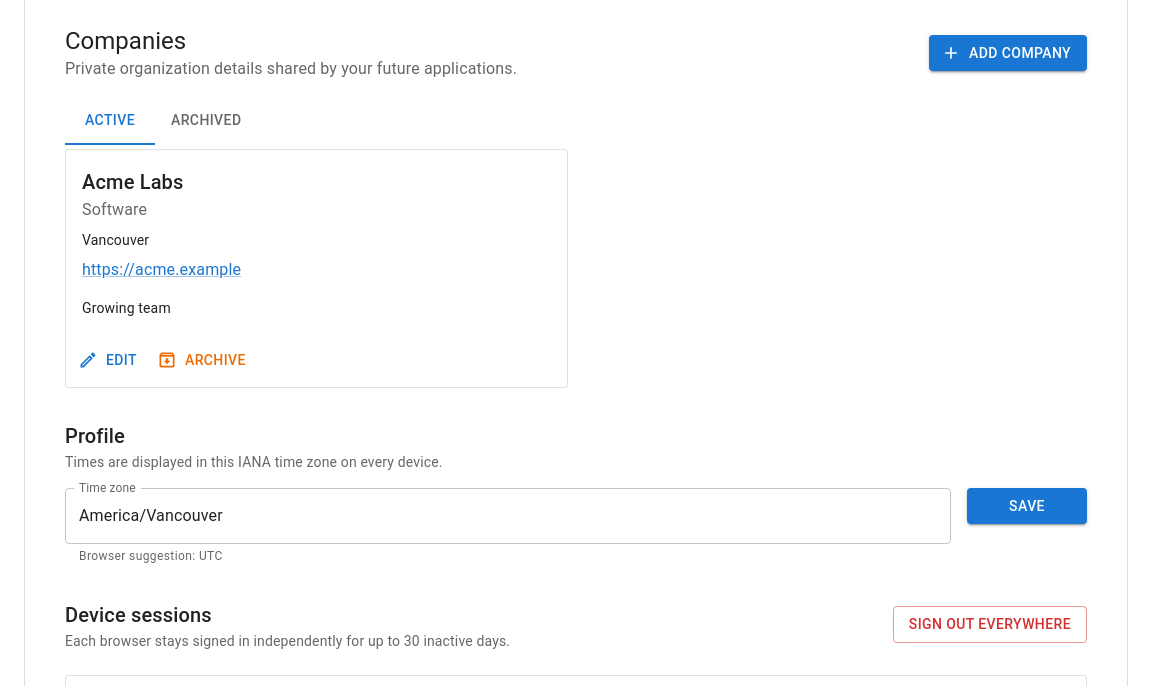
Test: identity workflow › archives a company and exposes the archived restore view
(page scrolled)
Check: the heading "Acme Labs" is shown, box [82,170,184,194]
Click the button "Archive" at coordinates (203, 360), box [153,342,254,379]
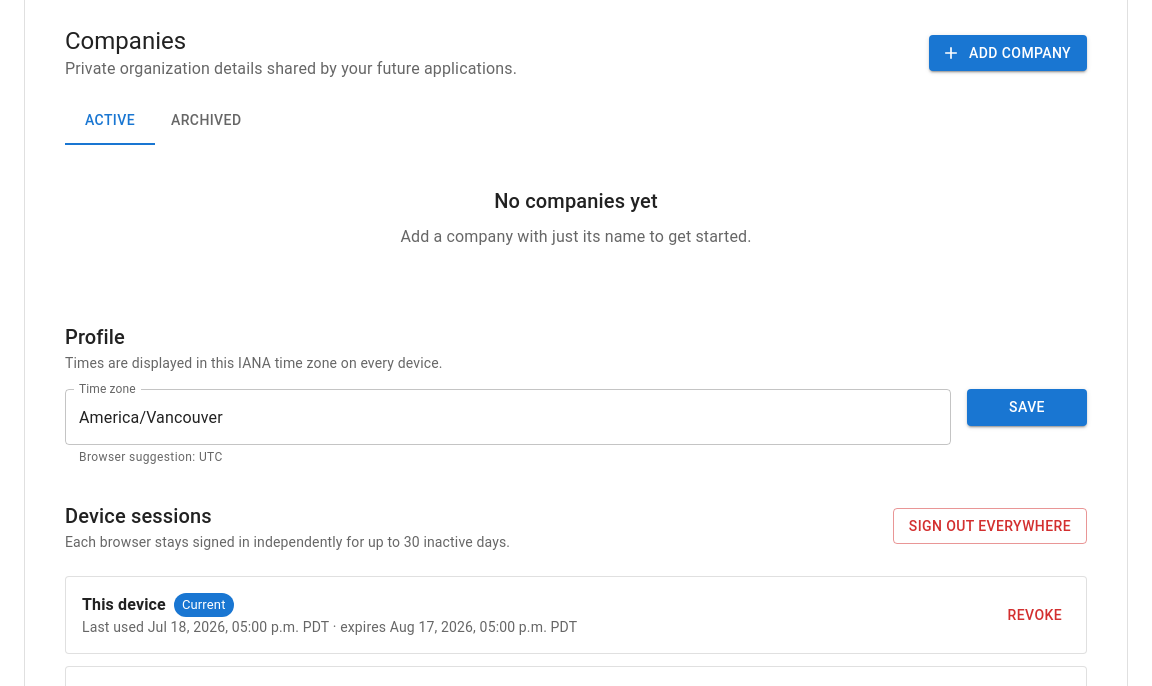
Check: the heading "No companies yet" is shown, box [494,189,658,213]
Click the tab "Archived" at coordinates (206, 121), box [155,97,257,145]
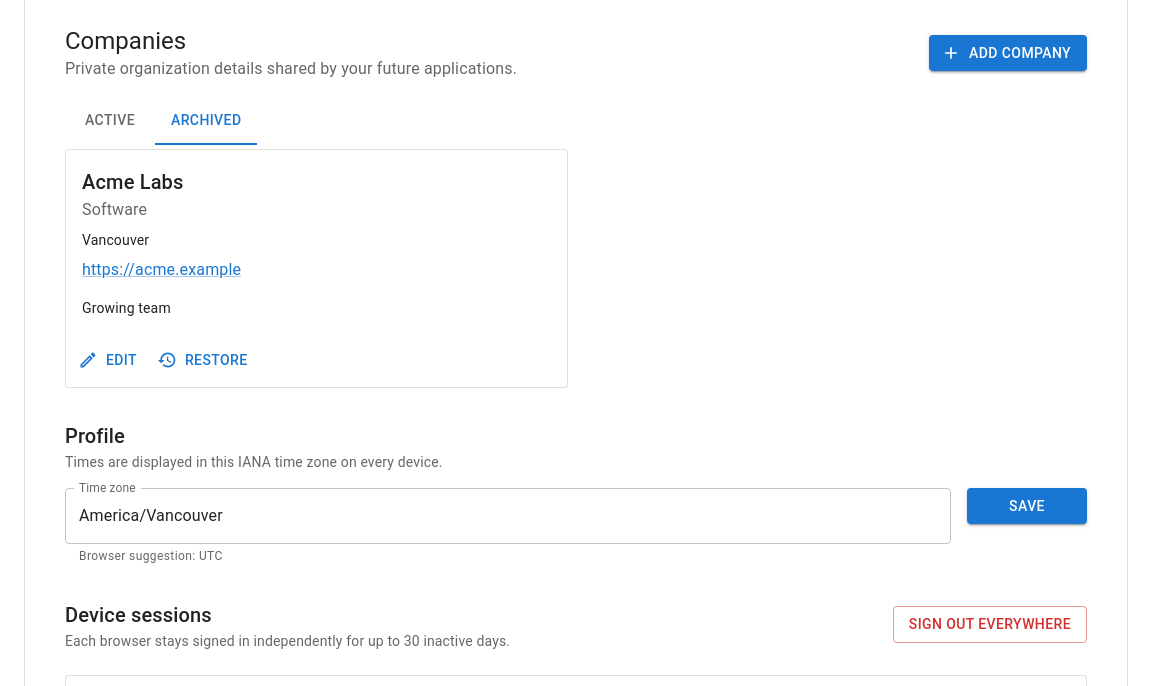
Check: the button "Restore" is shown, box [153,342,256,379]
